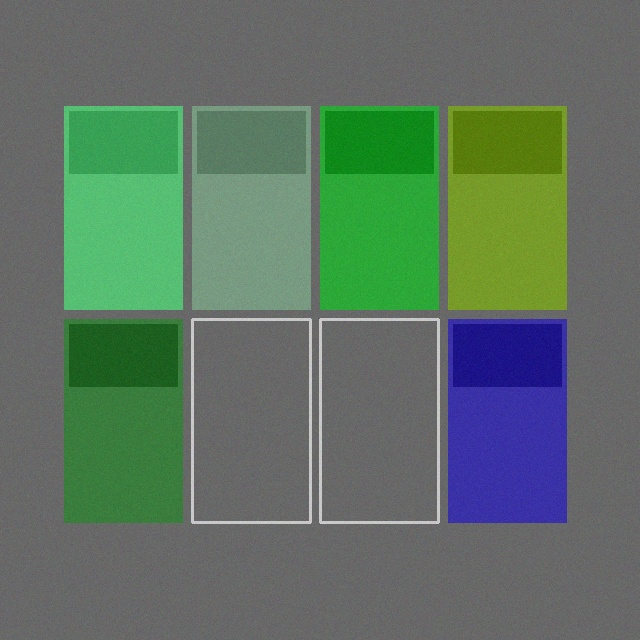space-empty: (192, 319, 310, 522), (320, 319, 438, 522)
space-occupied: (64, 106, 182, 309), (192, 106, 310, 309), (320, 106, 438, 309), (448, 106, 566, 309), (64, 319, 182, 522), (448, 319, 566, 522)
